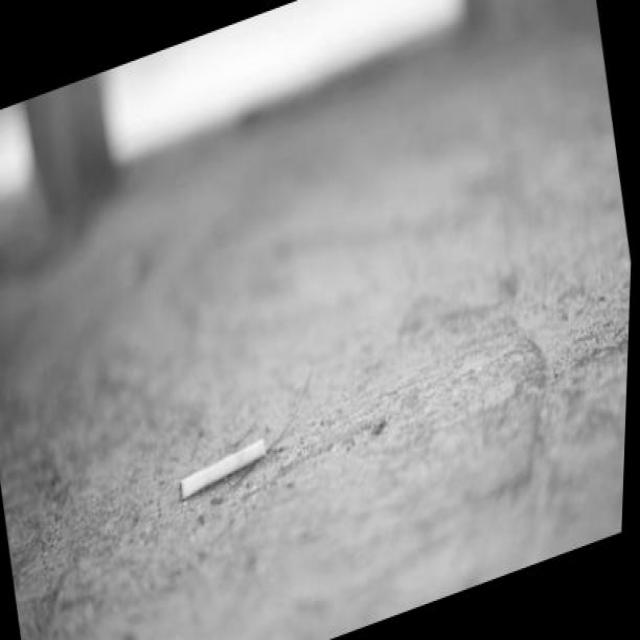cigarette: (177, 432, 276, 504)
